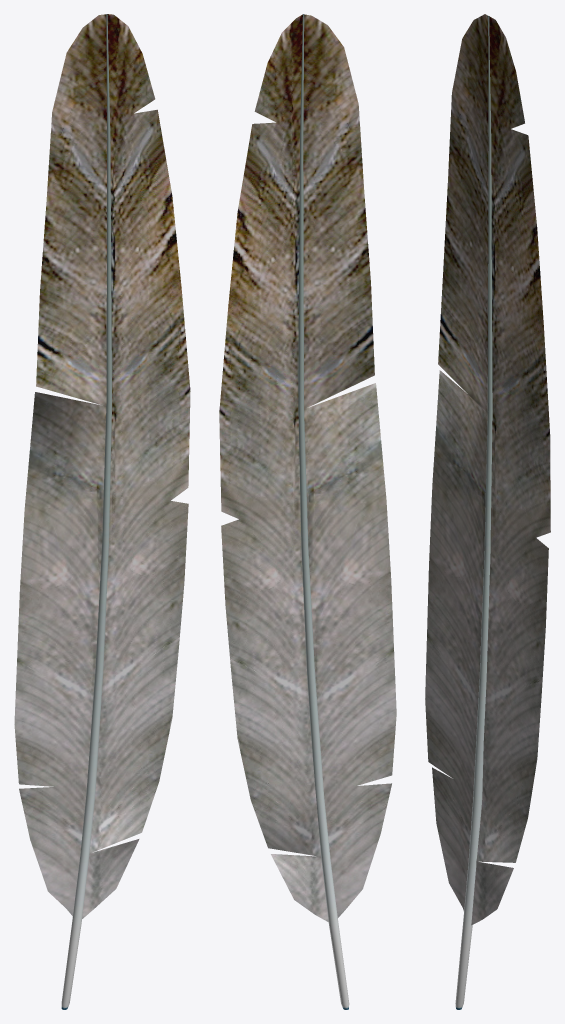
Rendered from feather.obj.
The picture shows the model from 3 angles, left to right: view 1: azimuth 30°, elevation 25°; view 2: azimuth 210°, elevation 25°; view 3: azimuth 330°, elevation 25°; orthographic projection.
Parts seen in each view (by area): view 1: Feather1; view 2: Feather1; view 3: Feather1.
Part boxes in pixels (x1,y1,x2,y2): Feather1: [14, 14, 190, 1009]; Feather1: [219, 14, 396, 1009]; Feather1: [425, 14, 550, 1009].
Size of the model in its own units: 0.033 by 0.2087 by 0.0105.
